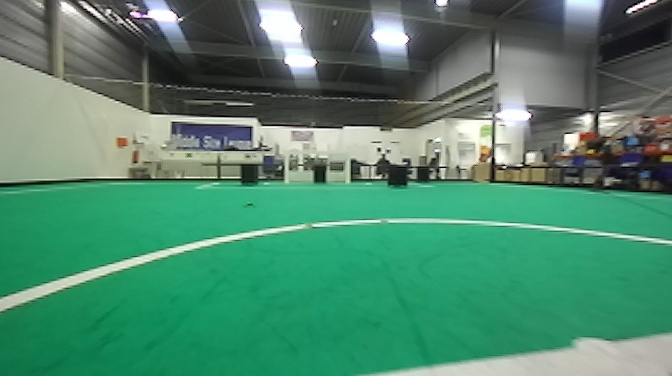goalpost: (340, 146, 355, 187), (280, 151, 294, 183)
